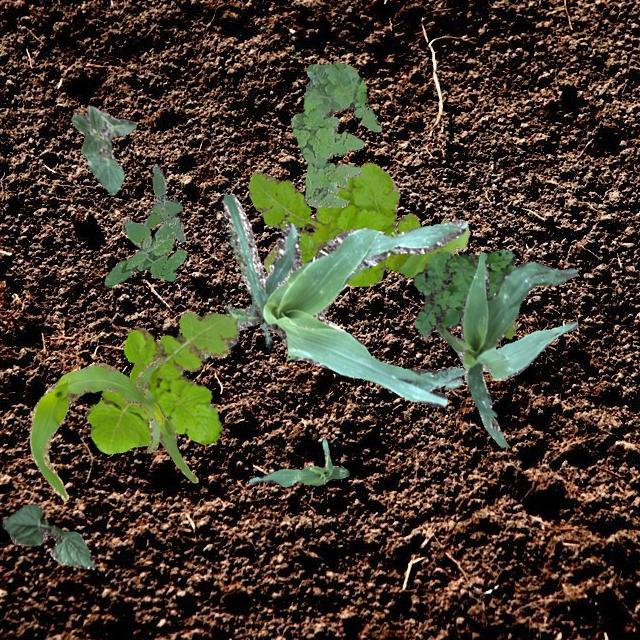crop: (203, 192, 467, 406), (436, 250, 576, 447), (28, 356, 196, 501), (70, 104, 136, 194), (2, 504, 94, 568), (248, 438, 348, 486)
weed: (247, 162, 468, 286), (85, 310, 236, 454), (290, 62, 380, 206), (412, 248, 516, 339), (104, 216, 185, 286), (143, 164, 185, 242), (504, 318, 514, 338)
